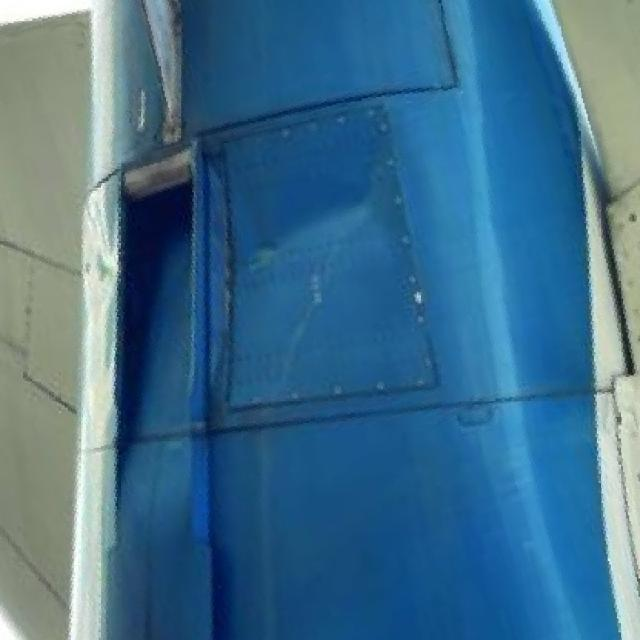dent: (228, 171, 443, 297)
